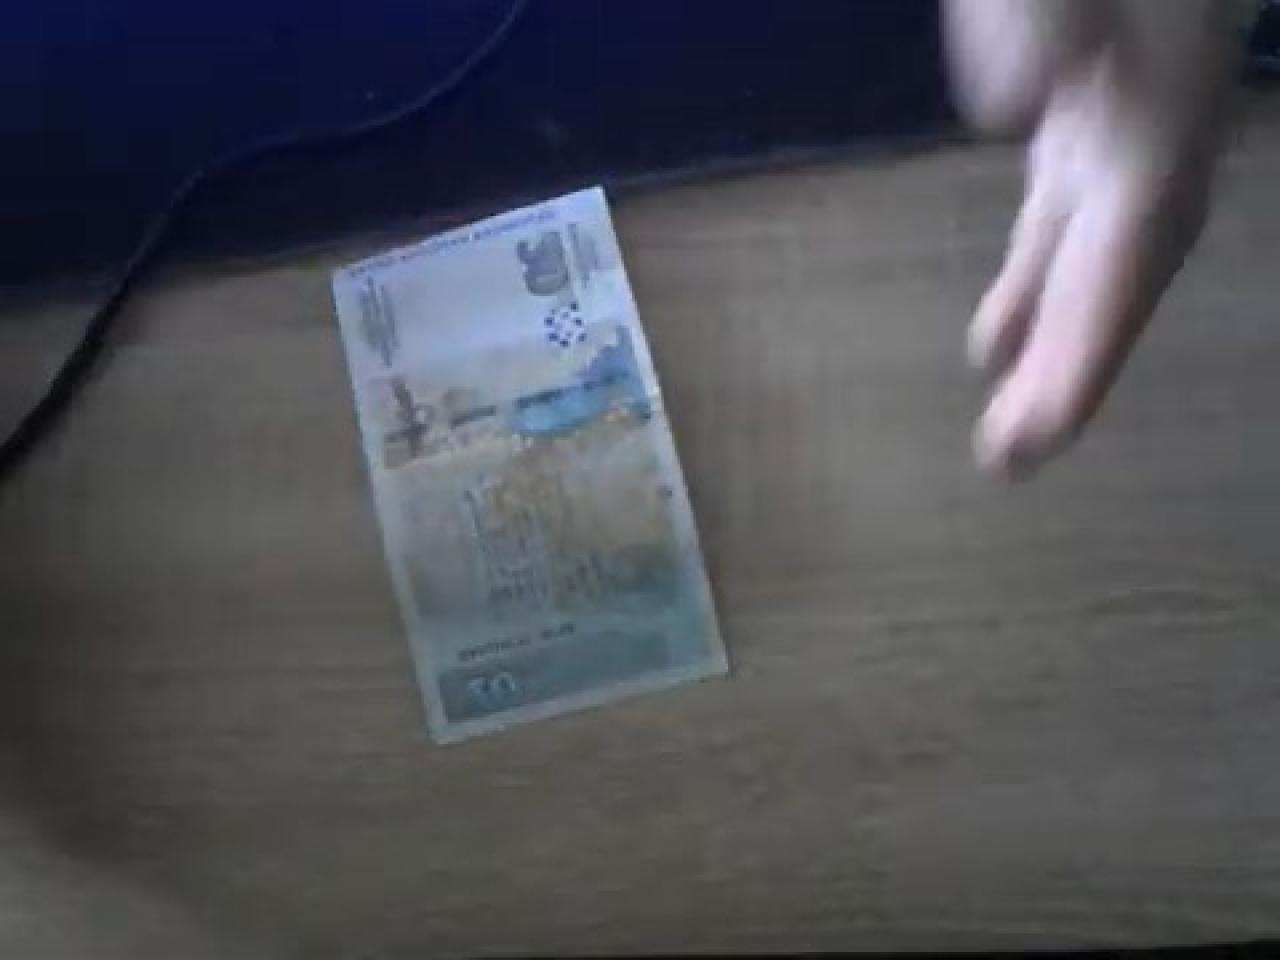20leva: (328, 190, 734, 749)
